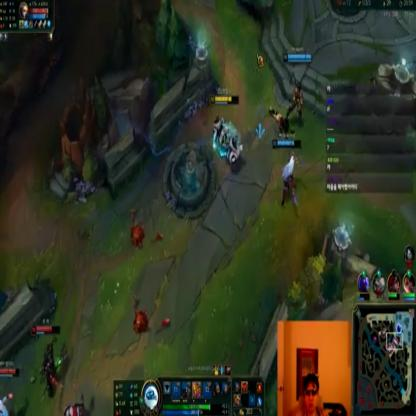streamer: (296, 372, 330, 416)
